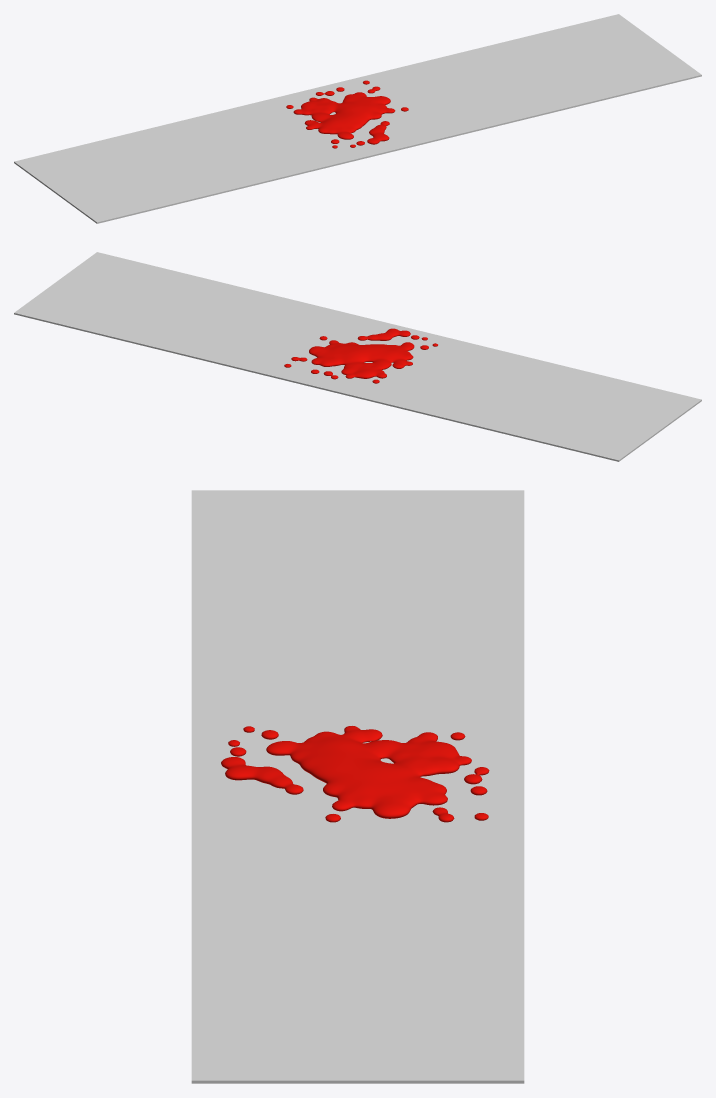
The model's file is specimen2.gltf.
3 views of the same model, one above another, from view 1: azimuth 30°, elevation 25°; view 2: azimuth 150°, elevation 25°; view 3: azimuth 270°, elevation 25° (orthographic). The views are drawn at different scales.
Parts seen in each view (by area): view 1: Cube.028, Remesh; view 2: Cube.028, Remesh; view 3: Cube.028, Remesh.
Part boxes in pixels (bbox=[...]): Cube.028: bbox=[14, 14, 701, 223]; Remesh: bbox=[286, 80, 408, 148]; Cube.028: bbox=[14, 252, 701, 461]; Remesh: bbox=[284, 328, 437, 383]; Cube.028: bbox=[191, 490, 524, 1083]; Remesh: bbox=[221, 726, 489, 822].
Bounding box in the file's own units: 0.084 × 0.00121 × 0.02.
